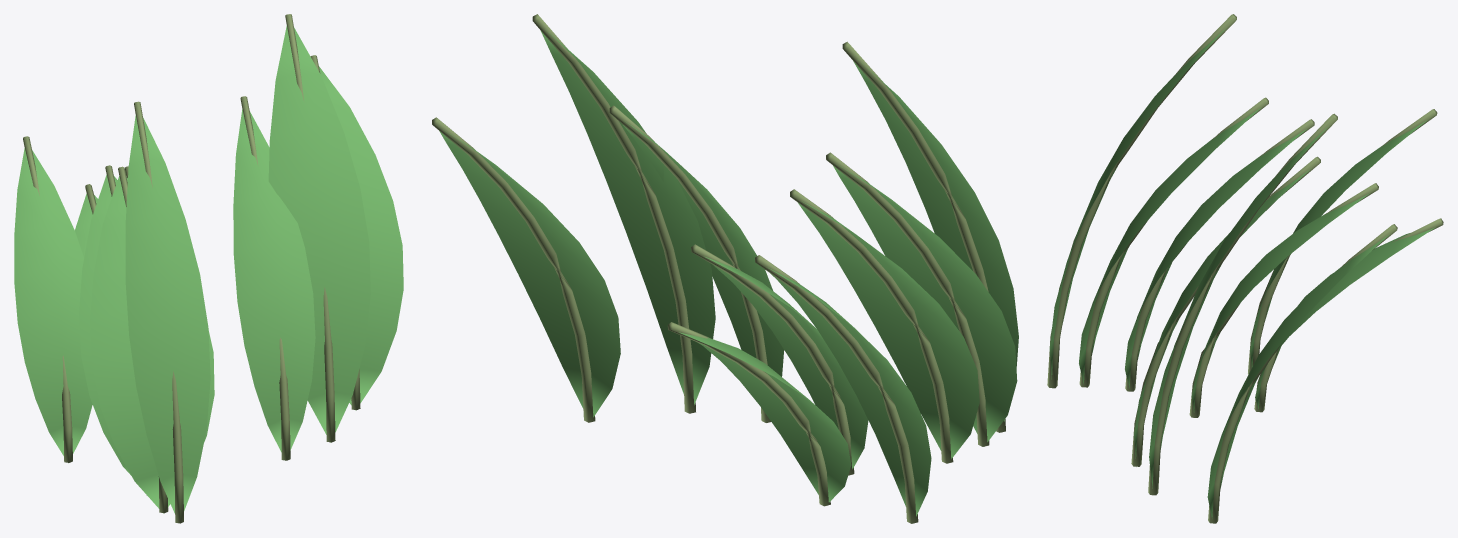
Rendered from plant_current_meadow_05.obj.
3 views of the same model, side by side, from view 1: azimuth 30°, elevation 25°; view 2: azimuth 150°, elevation 25°; view 3: azimuth 270°, elevation 25° (orthographic). The views are drawn at different scales.
Visible parts, largest first — view 1: bent_living_blade.151, bent_living_blade.150, bent_living_blade.144, bent_living_blade.146, bent_living_blade.149, bent_living_blade.148, bent_living_blade.147, leaf_midrib.151, leaf_midrib.150, leaf_midrib.144, leaf_midrib.146, bent_living_blade.145 (+1 smaller); view 2: bent_living_blade.151, bent_living_blade.148, bent_living_blade.147, bent_living_blade.149, bent_living_blade.150, bent_living_blade.146, bent_living_blade.145, bent_living_blade.143, bent_living_blade.144, leaf_midrib.151, leaf_midrib.148, leaf_midrib.147 (+6 smaller); view 3: bent_living_blade.149, bent_living_blade.147, bent_living_blade.148, bent_living_blade.151, bent_living_blade.143, leaf_midrib.151, leaf_midrib.150, bent_living_blade.150, bent_living_blade.146, bent_living_blade.145, bent_living_blade.144, leaf_midrib.144 (+6 smaller).
Boxes of the visible parts, box(x1,y1,x2,y2) form: bent_living_blade.151: box(268, 25, 370, 442); bent_living_blade.150: box(125, 115, 210, 513); bent_living_blade.144: box(233, 109, 315, 452); bent_living_blade.146: box(14, 148, 92, 463); bent_living_blade.149: box(90, 176, 214, 513); bent_living_blade.148: box(319, 66, 403, 410); bent_living_blade.147: box(79, 175, 131, 475); leaf_midrib.151: box(285, 14, 335, 442); leaf_midrib.150: box(134, 101, 183, 523); leaf_midrib.144: box(240, 96, 290, 460); leaf_midrib.146: box(23, 136, 72, 462); bent_living_blade.145: box(75, 194, 97, 257); bent_living_blade.151: box(541, 29, 715, 405); bent_living_blade.148: box(439, 131, 620, 417); bent_living_blade.147: box(798, 201, 979, 458); bent_living_blade.149: box(833, 165, 1017, 442); bent_living_blade.150: box(853, 59, 1018, 421); bent_living_blade.146: box(768, 268, 931, 516); bent_living_blade.145: box(679, 332, 851, 502); bent_living_blade.143: box(704, 256, 868, 469); bent_living_blade.144: box(623, 121, 784, 376); leaf_midrib.151: box(532, 14, 695, 413); leaf_midrib.148: box(432, 117, 595, 422); leaf_midrib.147: box(790, 189, 953, 463); bent_living_blade.149: box(1079, 107, 1261, 383); bent_living_blade.147: box(1125, 129, 1306, 388); bent_living_blade.148: box(1207, 234, 1389, 518); bent_living_blade.151: box(1149, 126, 1328, 488); bent_living_blade.143: box(1191, 193, 1369, 412); leaf_midrib.151: box(1148, 113, 1337, 495); leaf_midrib.150: box(1047, 14, 1236, 388); bent_living_blade.150: box(1049, 27, 1226, 379); bent_living_blade.146: box(1250, 120, 1427, 367); bent_living_blade.145: box(1255, 227, 1435, 408); bent_living_blade.144: box(1134, 168, 1311, 458); leaf_midrib.144: box(1131, 156, 1320, 466).
Bounding box in the file's own units: 2.08 × 2 × 1.78.
